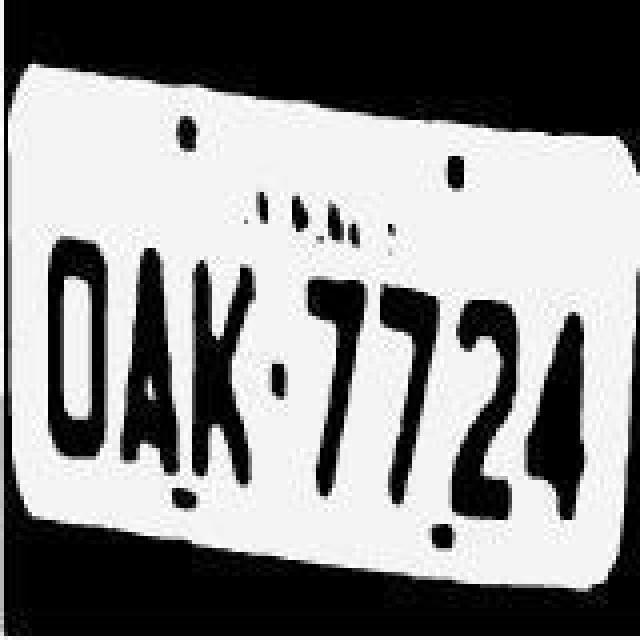2: (448, 292, 528, 524)
4: (522, 306, 590, 558)
7: (368, 276, 448, 516), (298, 272, 374, 512)
A: (118, 240, 186, 480)
K: (188, 248, 260, 488)
O: (38, 228, 114, 468)
